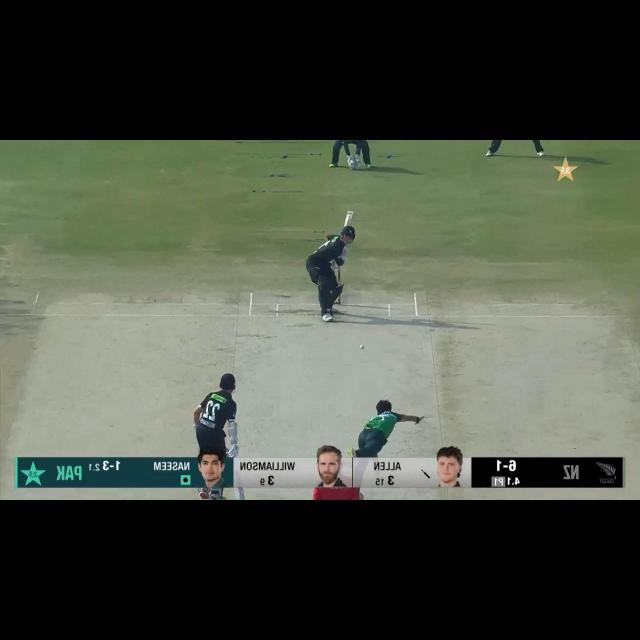bat: (344, 210, 354, 229)
toe: (347, 210, 354, 214)
